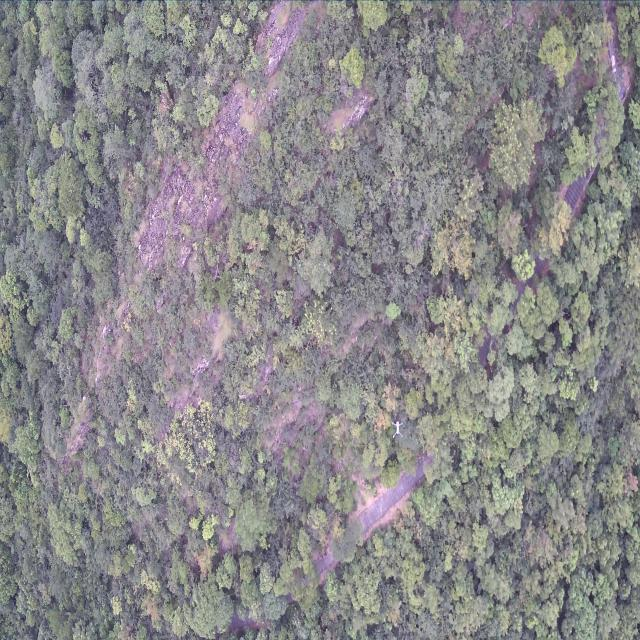UAV: (390, 419, 405, 438)
